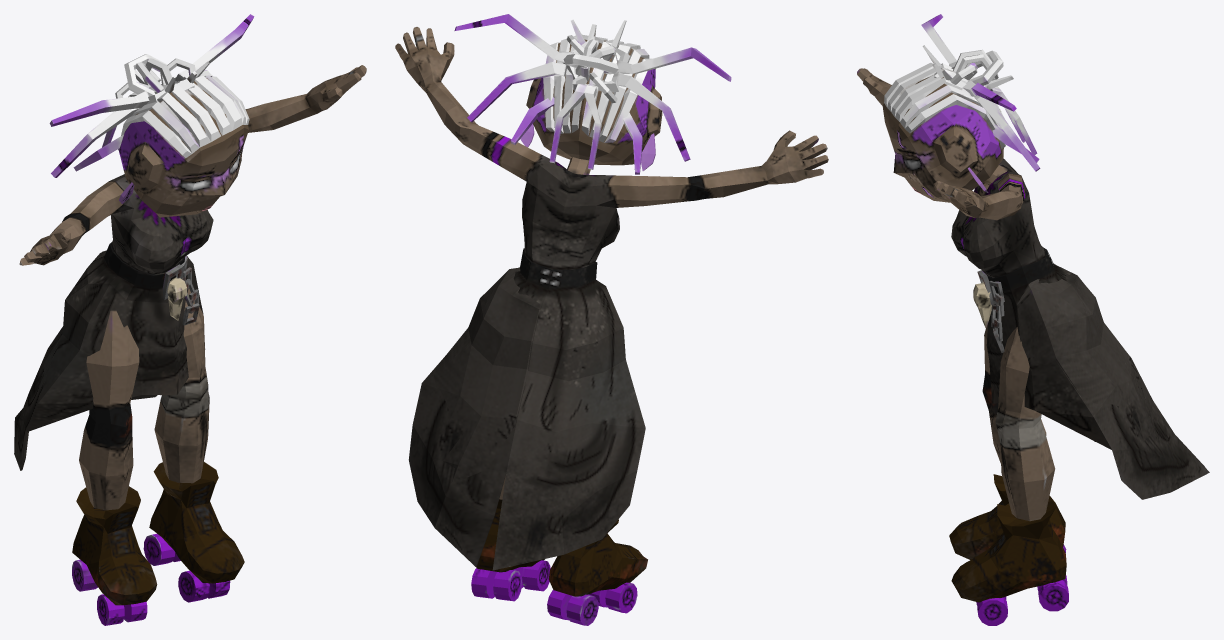
The model's file is bruja_000129.obj.
The picture shows the model from 3 angles, left to right: view 1: azimuth 30°, elevation 25°; view 2: azimuth 150°, elevation 25°; view 3: azimuth 270°, elevation 25°; orthographic projection. The views are drawn at different scales.
Visible parts, largest first — view 1: Bruja_Plane.001; view 2: Bruja_Plane.001; view 3: Bruja_Plane.001.
Boxes of the visible parts, x1=… form: Bruja_Plane.001: x1=14, y1=14, x2=366, y2=625; Bruja_Plane.001: x1=395, y1=14, x2=828, y2=625; Bruja_Plane.001: x1=857, y1=14, x2=1209, y2=625.
Size of the model in its own units: 11.55 by 16.25 by 9.5.
